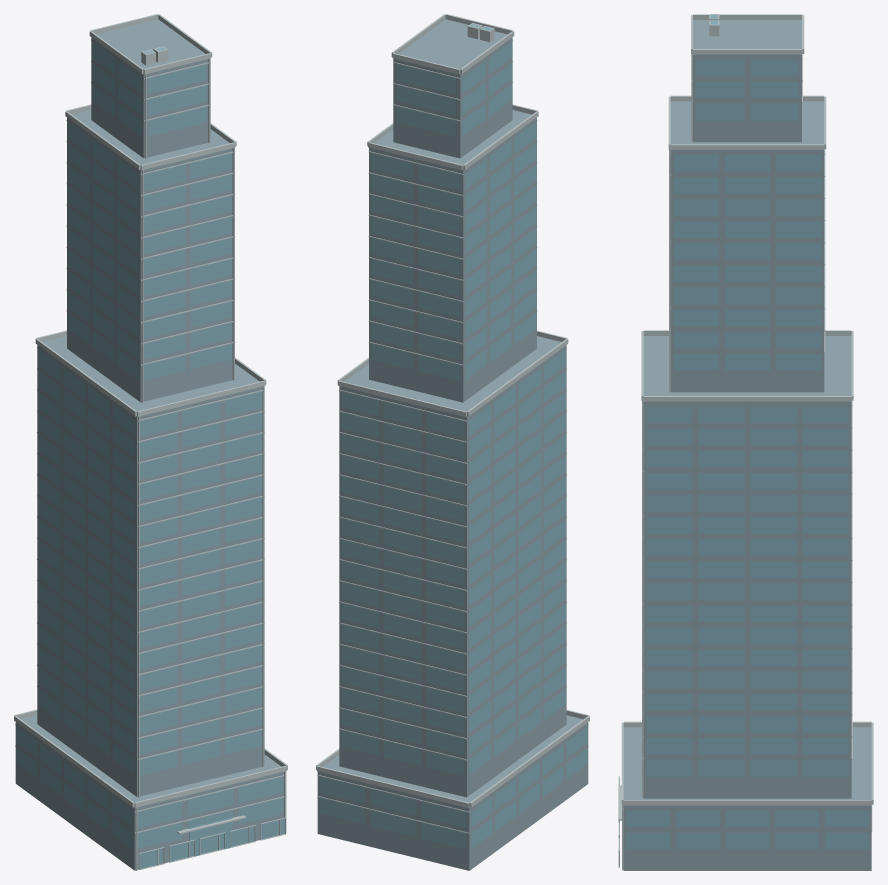
Rendered from commercial_3x4_tower.glb.
3 renders of one model, left to right at view 1: azimuth 30°, elevation 25°; view 2: azimuth 150°, elevation 25°; view 3: azimuth 270°, elevation 25°, orthographic. The views are drawn at different scales.
Parts seen in each view (by area): view 1: commercial_3x4_tower_0; view 2: commercial_3x4_tower_0; view 3: commercial_3x4_tower_0.
Part boxes in pixels (bbox=[...]): commercial_3x4_tower_0: bbox=[14, 14, 287, 870]; commercial_3x4_tower_0: bbox=[316, 14, 589, 870]; commercial_3x4_tower_0: bbox=[618, 14, 873, 870].
Size of the model in its own units: 23 by 110 by 31.4.
